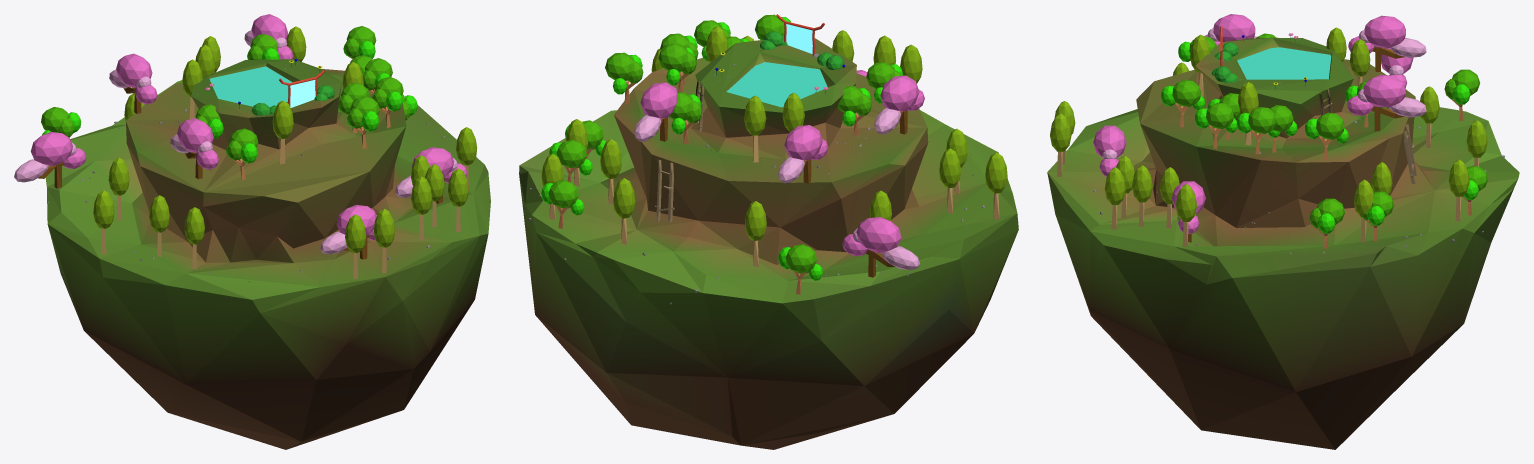
The picture shows the model from 3 angles, left to right: view 1: azimuth 30°, elevation 25°; view 2: azimuth 150°, elevation 25°; view 3: azimuth 270°, elevation 25°; orthographic projection. The views are drawn at different scales.
Visible parts, largest first — view 1: Island.019, Water.019, Tree3 - 2.070, Tree3 - 2.073, Tree3 - 2.072, Tree3 - 2.068, Tree3 - 2.069, Tree3 - 2.071, Tree1 - 2.099, Tree1 - 2.103, Tree1 - 2.105, Tree1 - 2.097 (+19 smaller); view 2: Island.019, Water.019, Tree3 - 2.070, Tree3 - 2.073, Tree3 - 2.072, Tree3 - 2.071, Tree1 - 2.102, Tree1 - 2.104, Tree1 - 2.097, Tree1 - 2.096, Tree1 - 2.100, Tree1 - 2.106 (+21 smaller); view 3: Island.019, Water.019, Tree3 - 2.071, Tree3 - 2.072, Tree3 - 2.068, Tree1 - 2.102, Tree1 - 2.099, Tree3 - 2.073, Tree1 - 2.105, Tree1 - 2.098, Tree1 - 2.097, Tree1 - 2.094 (+20 smaller).
Boxes of the visible parts, box(x1,y1,x2,y2) form: Island.019: box(45, 59, 490, 449); Water.019: box(209, 66, 292, 107); Tree3 - 2.070: box(14, 132, 86, 188); Tree3 - 2.073: box(170, 118, 218, 179); Tree3 - 2.072: box(109, 53, 157, 113); Tree3 - 2.068: box(320, 204, 377, 259); Tree3 - 2.069: box(395, 147, 467, 203); Tree3 - 2.071: box(244, 14, 293, 59); Tree1 - 2.099: box(347, 96, 379, 148); Tree1 - 2.103: box(226, 128, 258, 180); Tree1 - 2.105: box(372, 77, 403, 128); Tree1 - 2.097: box(41, 107, 81, 137); Island.019: box(519, 38, 1018, 449); Water.019: box(726, 62, 827, 107); Tree3 - 2.070: box(842, 217, 919, 277); Tree3 - 2.073: box(874, 75, 924, 134); Tree3 - 2.072: box(778, 125, 828, 183); Tree3 - 2.071: box(634, 82, 677, 141); Tree1 - 2.102: box(605, 52, 643, 103); Tree1 - 2.104: box(658, 43, 696, 92); Tree1 - 2.097: box(778, 244, 822, 294); Tree1 - 2.096: box(541, 180, 584, 228); Tree1 - 2.100: box(837, 86, 871, 135); Tree1 - 2.106: box(668, 92, 702, 143); Island.019: box(1047, 37, 1519, 449); Water.019: box(1237, 47, 1331, 79); Tree3 - 2.071: box(1347, 74, 1426, 131); Tree3 - 2.072: box(1348, 15, 1426, 71); Tree3 - 2.068: box(1093, 125, 1126, 176); Tree1 - 2.102: box(1305, 112, 1348, 159); Tree1 - 2.099: box(1161, 79, 1204, 127); Tree3 - 2.073: box(1204, 14, 1256, 45); Tree1 - 2.105: box(1195, 102, 1237, 148); Tree1 - 2.098: box(1237, 107, 1280, 154); Tree1 - 2.097: box(1444, 69, 1479, 120); Tree1 - 2.094: box(1309, 198, 1344, 248).
Size of the model in its own units: 41.96 by 39.87 by 43.73.
